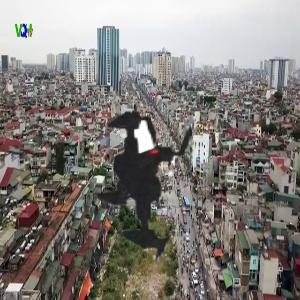drone: (42, 69, 269, 296)
